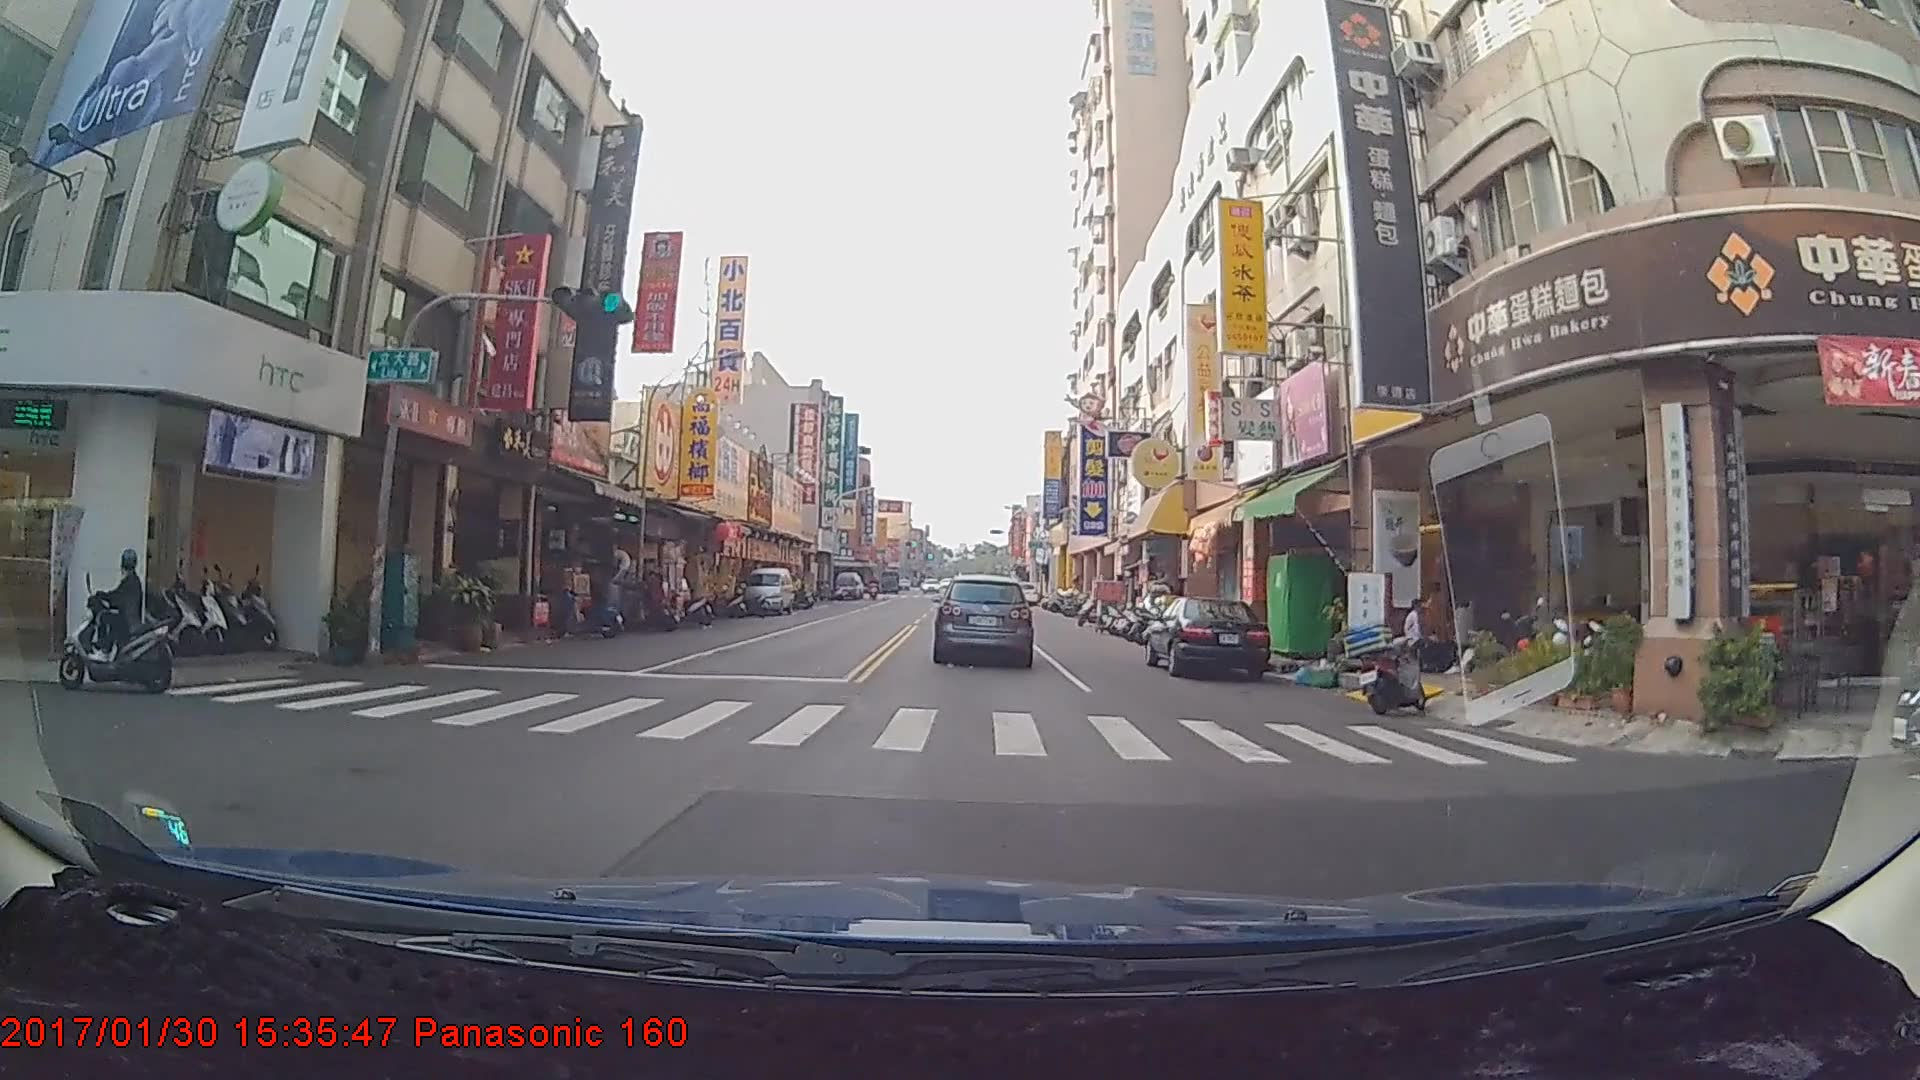pedestrian: (1397, 596, 1430, 676), (1442, 597, 1474, 676)
rider: (38, 550, 176, 691)
vehicle: (1149, 595, 1269, 679), (934, 574, 1032, 665), (737, 567, 791, 617), (835, 571, 865, 601)
